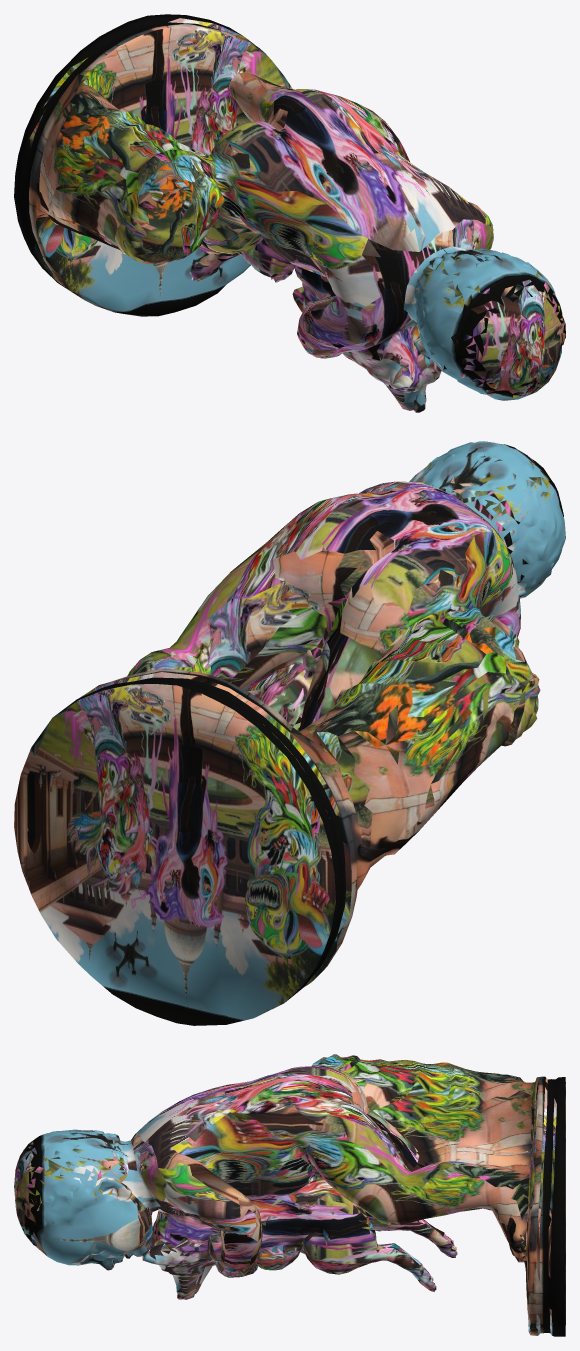
The model's file is tds_enfant-au-chien-restored.glb.
3 renders of one model, top to bottom at view 1: azimuth 30°, elevation 25°; view 2: azimuth 150°, elevation 25°; view 3: azimuth 270°, elevation 25°, orthographic. The views are drawn at different scales.
Visible parts, largest first — view 1: A; view 2: A; view 3: A.
Part boxes in pixels (x1,y1,x2,y2): A: (14, 14, 565, 412); A: (14, 441, 565, 1025); A: (14, 1054, 565, 1336).
Bounding box in the file's own units: 1.04 × 1.04 × 2.
Materials: 1 (1 with a texture image).
